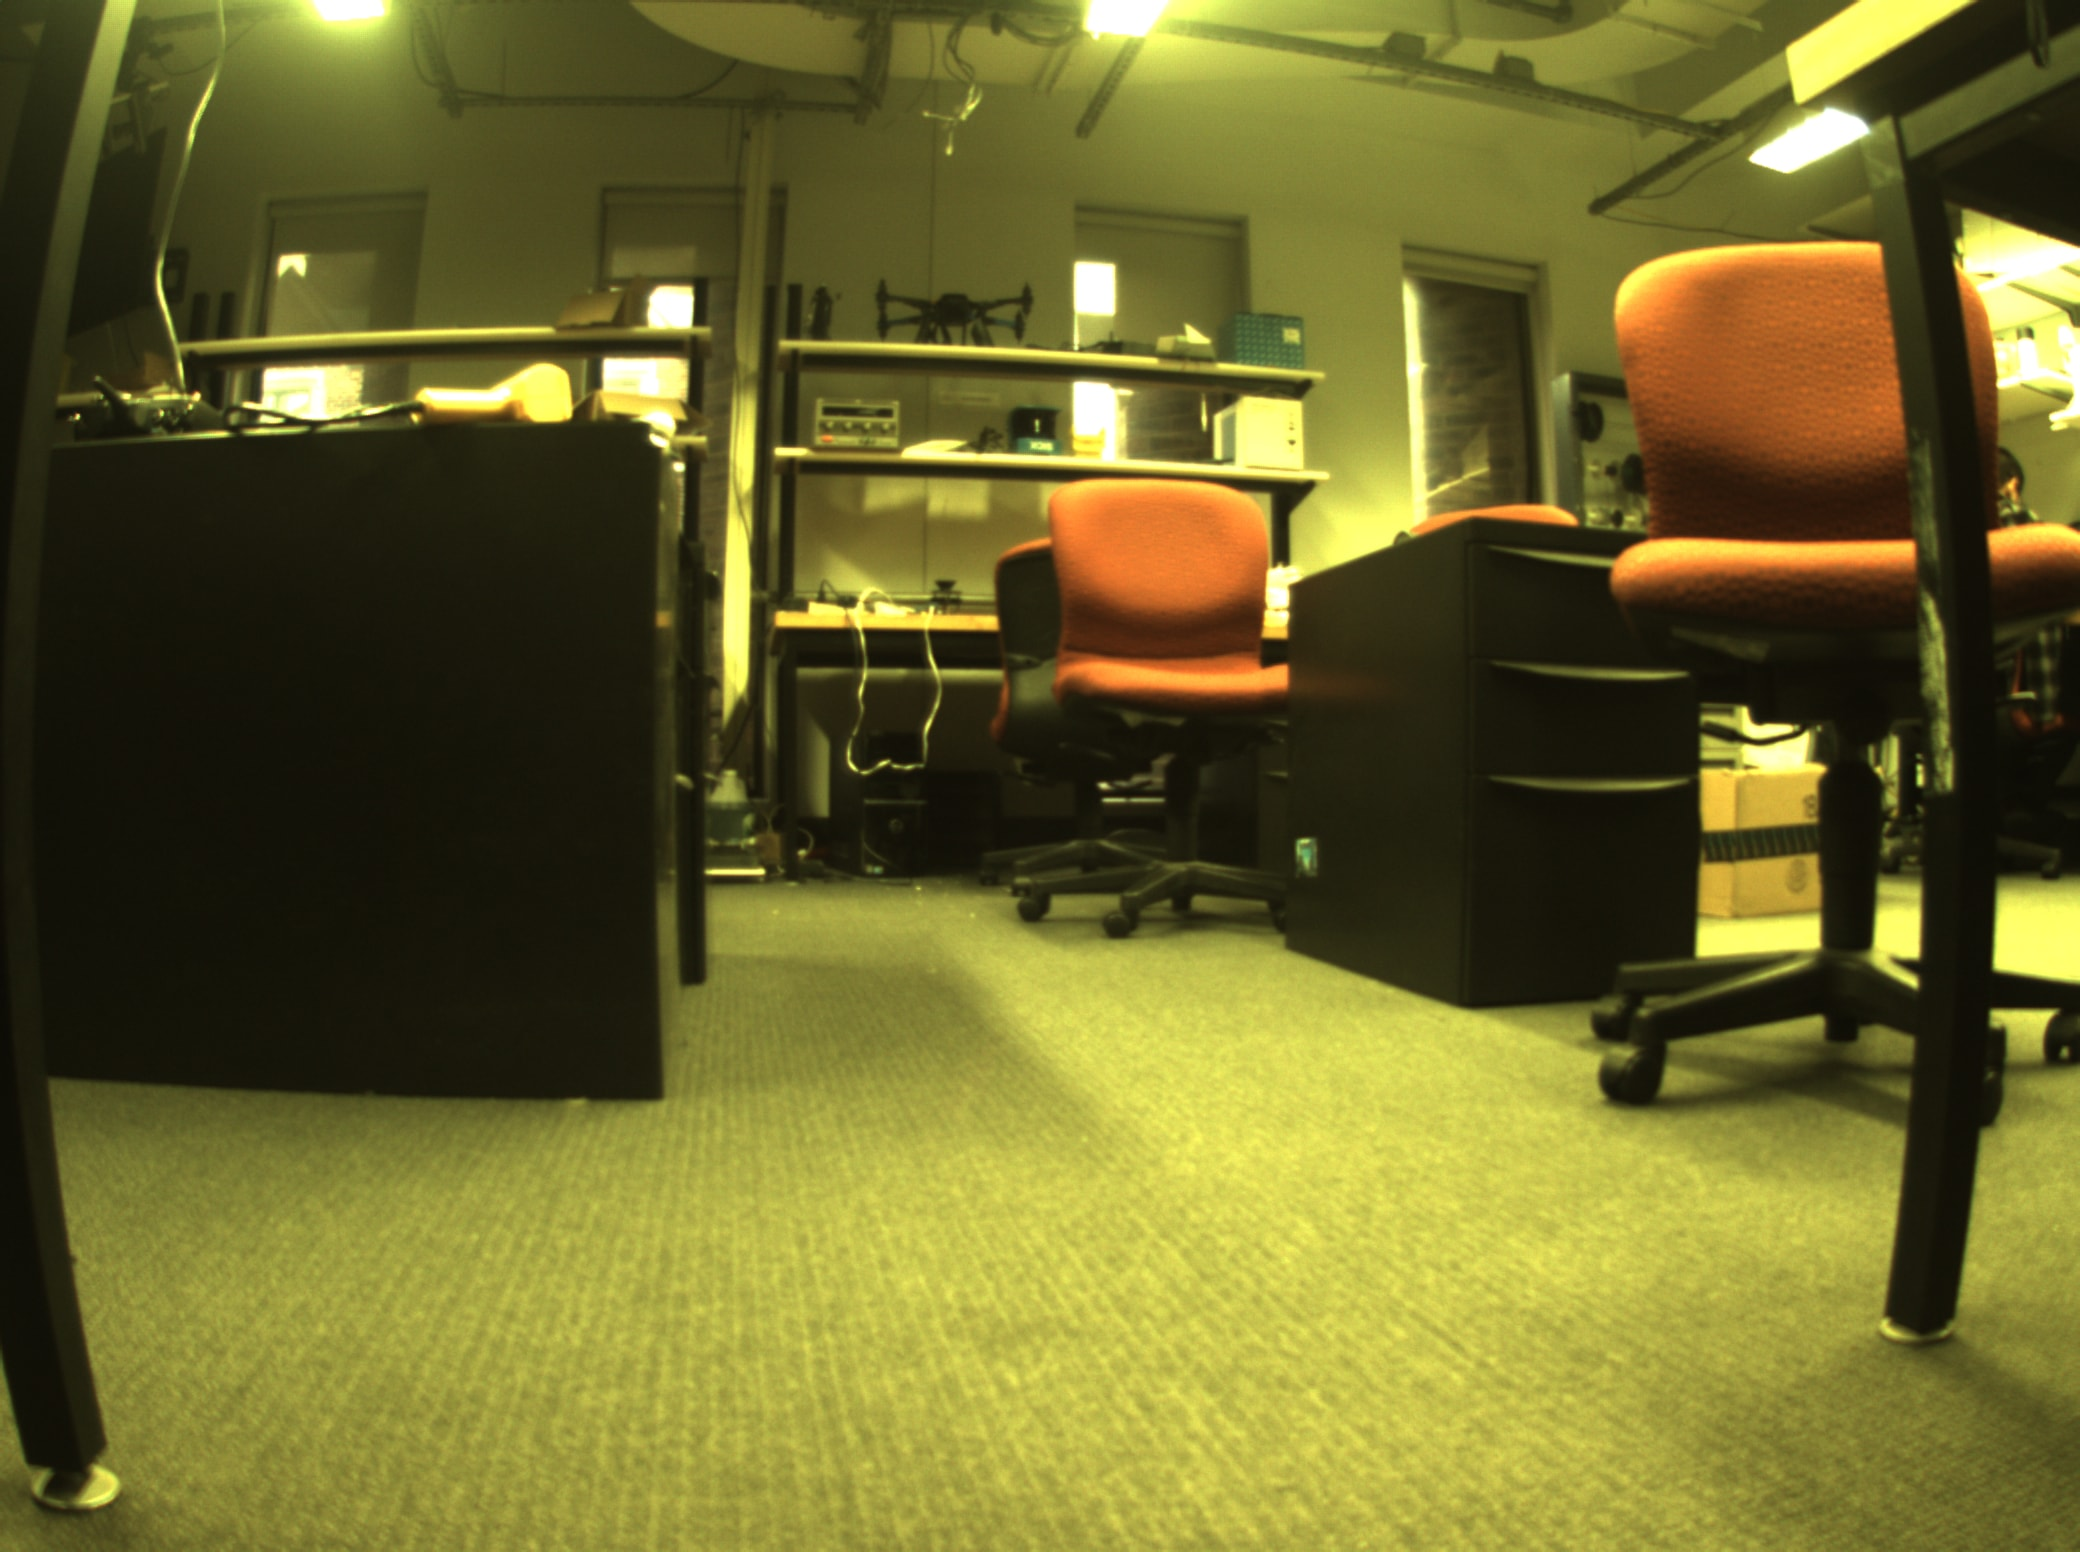chair: (1563, 220, 2073, 1140), (1029, 452, 1306, 967), (967, 531, 1179, 888)
